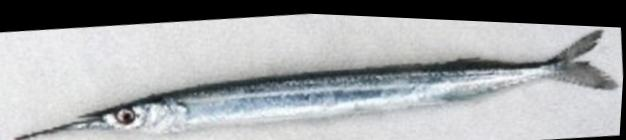fish: (14, 24, 619, 140)
